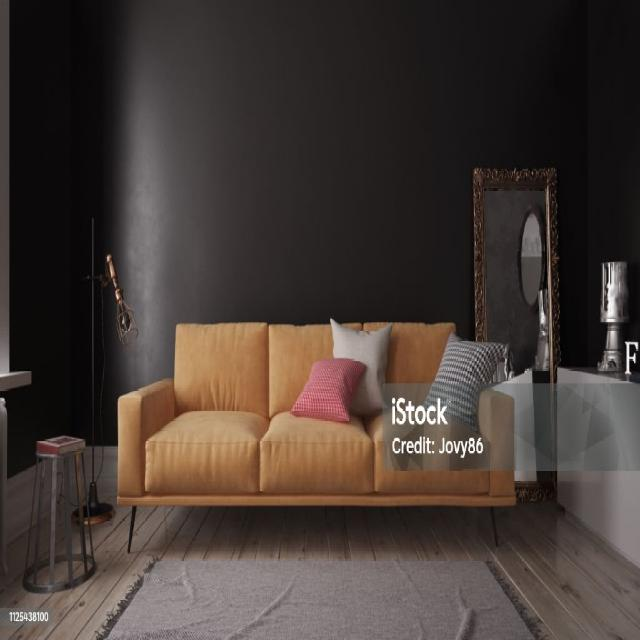back_cushion: (174, 319, 504, 429)
base: (118, 493, 514, 506)
left_arm: (479, 389, 514, 502)
legs: (128, 507, 136, 552), (491, 513, 497, 535), (491, 507, 493, 513), (495, 536, 498, 540), (495, 540, 497, 546)
right_arm: (118, 380, 173, 500)
seat_cushion: (146, 408, 488, 493)
stallion-sofa: (118, 324, 515, 544), (382, 323, 453, 390)
